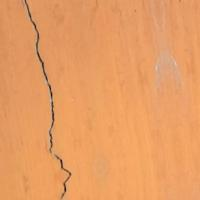crack: (5, 0, 73, 199)
